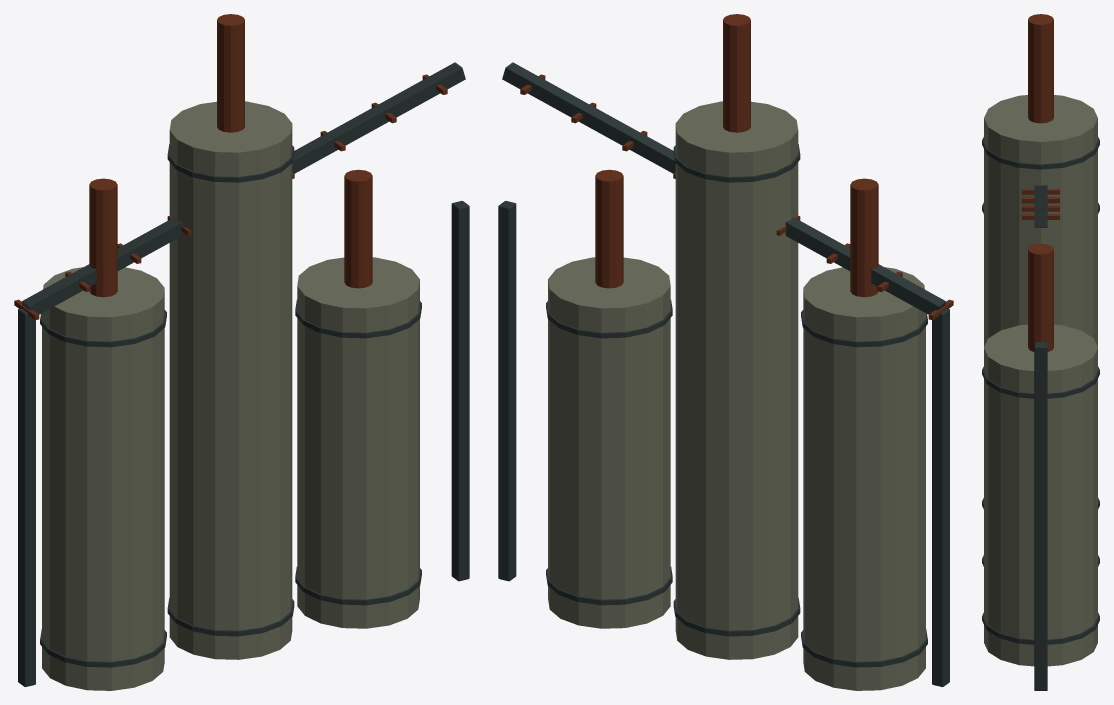
File: industrial_skyline.glb
3 renders of one model, left to right at view 1: azimuth 30°, elevation 25°; view 2: azimuth 150°, elevation 25°; view 3: azimuth 270°, elevation 25°, orthographic. The views are drawn at different scales.
Parts seen in each view (by area): view 1: industrial_skyline; view 2: industrial_skyline; view 3: industrial_skyline.
Boxes of the visible parts, x1=… form: industrial_skyline: x1=14, y1=14, x2=469, y2=690; industrial_skyline: x1=498, y1=14, x2=953, y2=690; industrial_skyline: x1=982, y1=14, x2=1099, y2=690.
Size of the model in its own units: 17.45 by 23 by 4.34.
